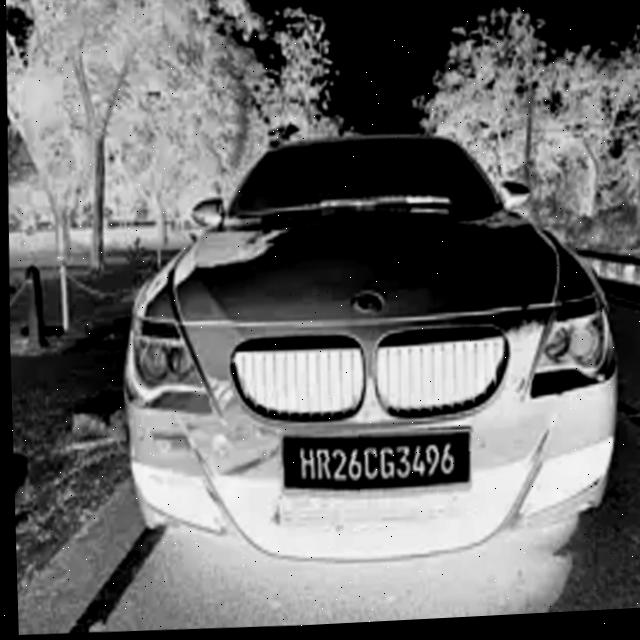Non_registered: (286, 431, 470, 505)
